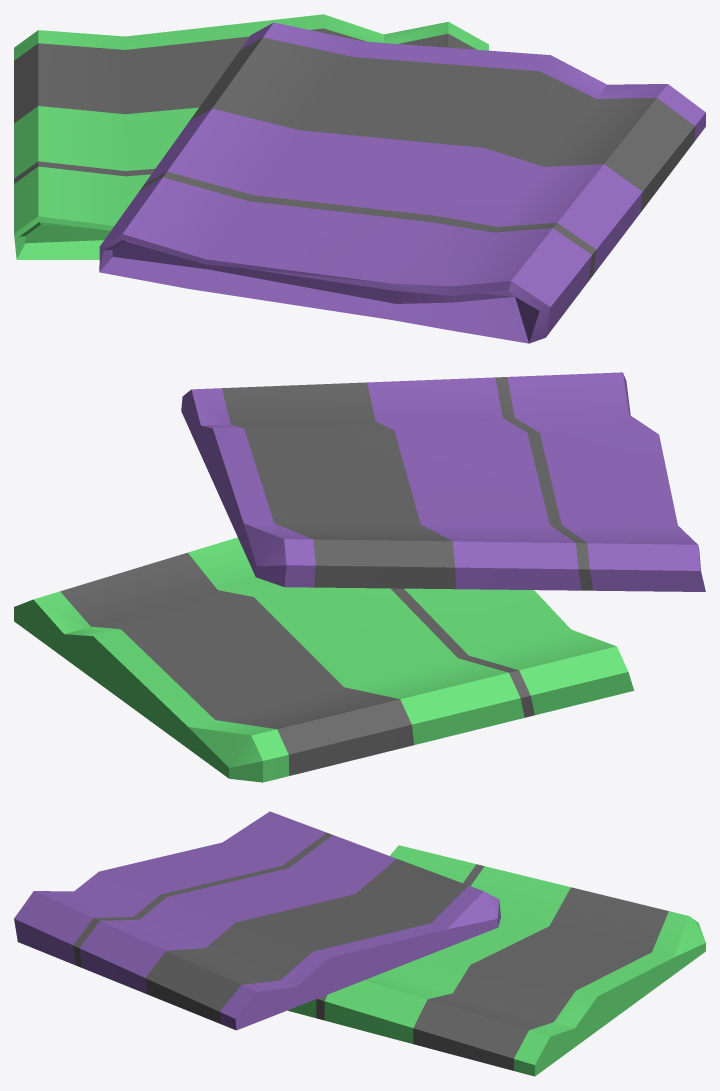
The model's file is Ropa02.fbx.
The picture shows the model from 3 angles, top to bottom: view 1: azimuth 30°, elevation 25°; view 2: azimuth 150°, elevation 25°; view 3: azimuth 270°, elevation 25°; orthographic projection. The views are drawn at different scales.
Parts seen in each view (by area): view 1: Ropa02; view 2: Ropa02; view 3: Ropa02.
Part boxes in pixels (x1,y1,x2,y2): Ropa02: [14, 14, 705, 343]; Ropa02: [14, 372, 705, 782]; Ropa02: [14, 811, 705, 1076].
Size of the model in its own units: 0.4166 by 0.0836 by 0.5638.
